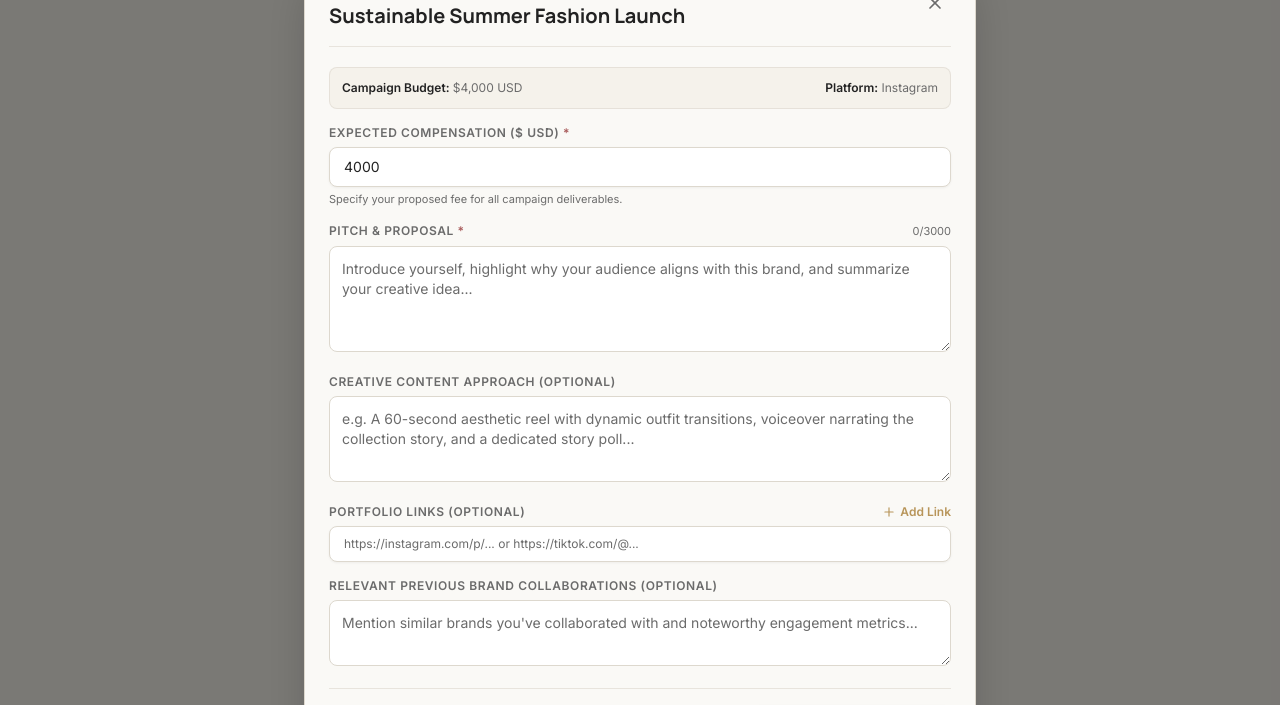
Test: Frontend Applications UI Tests (Phase 5) › ApplyModal Component › submits valid application and shows submission confirmation
Replace the text in the text box with placeholder "Introduce yourself" with "Excited to pitch dynamic Reels for your summer launch.". click: (640, 298)
box: [329, 246, 951, 352]
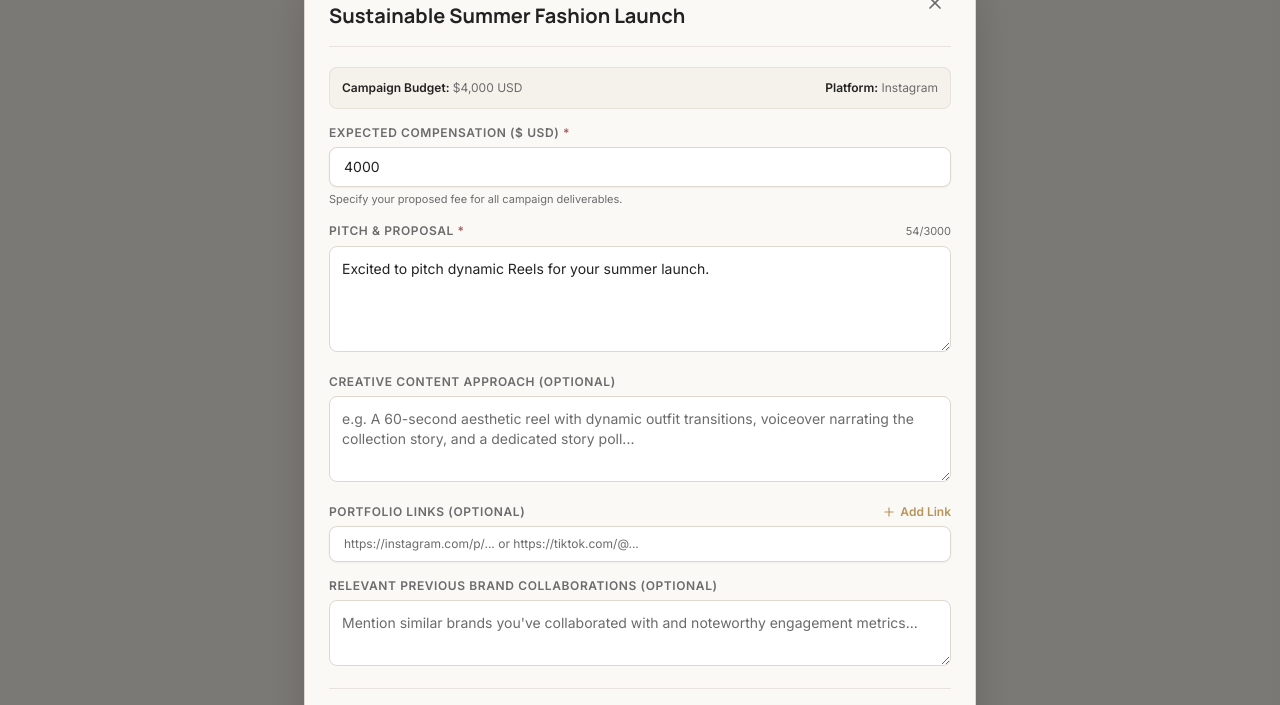
Replace the text in the number field with placeholder "e.g. 1200" with "1500". click: (640, 166)
box: [329, 146, 951, 186]
(page scrolled)
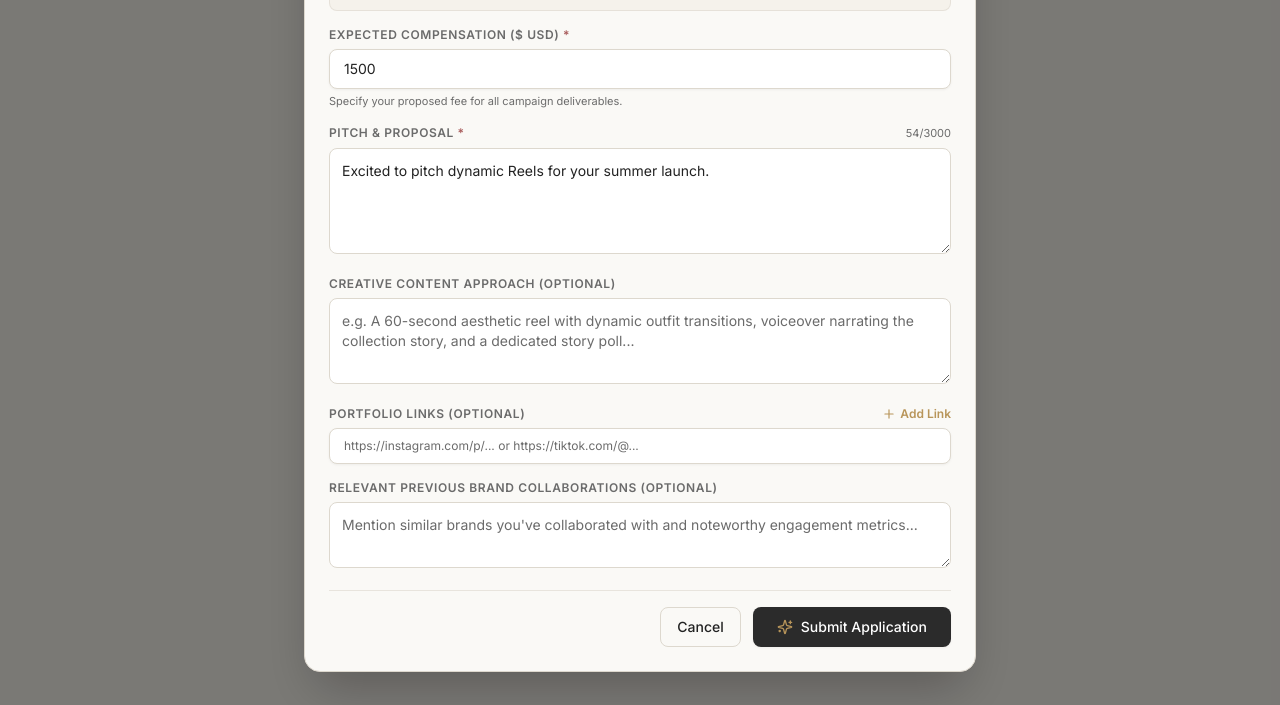
Click the button "Submit Application". click: (852, 626)
box: [753, 606, 951, 646]
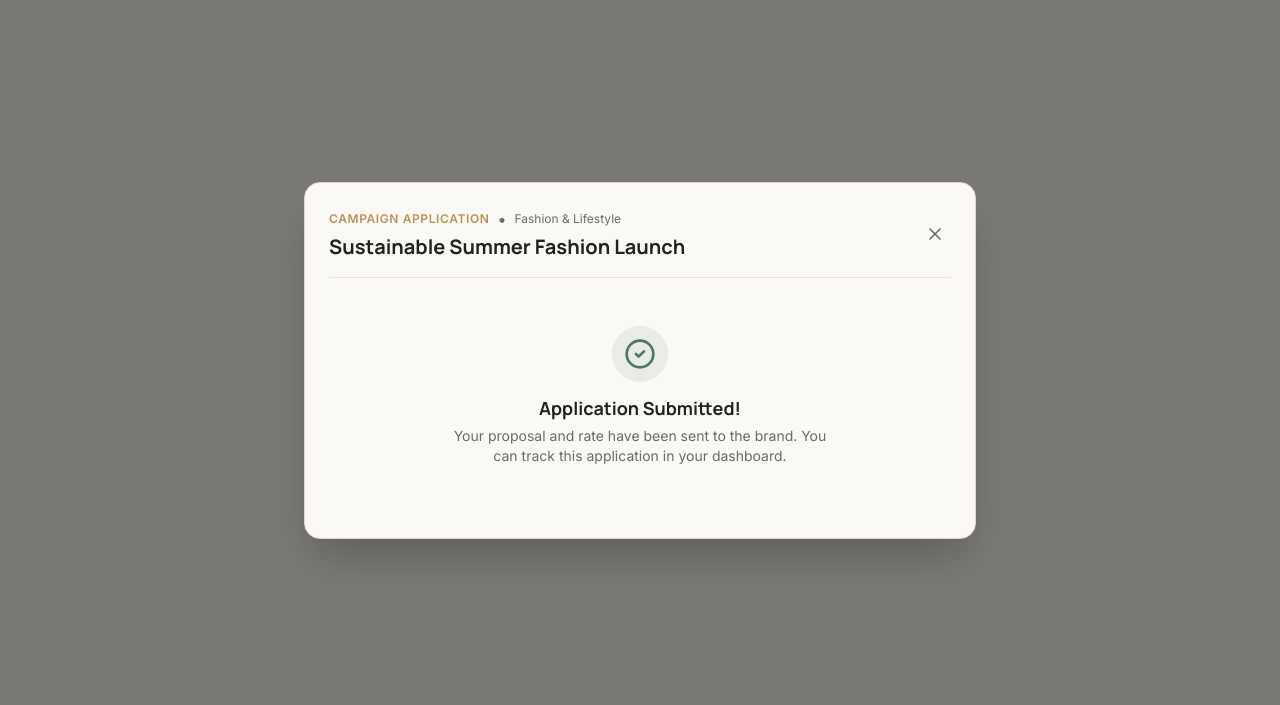
Expected: the heading "Application Submitted!" is shown, [539, 396, 741, 420]
